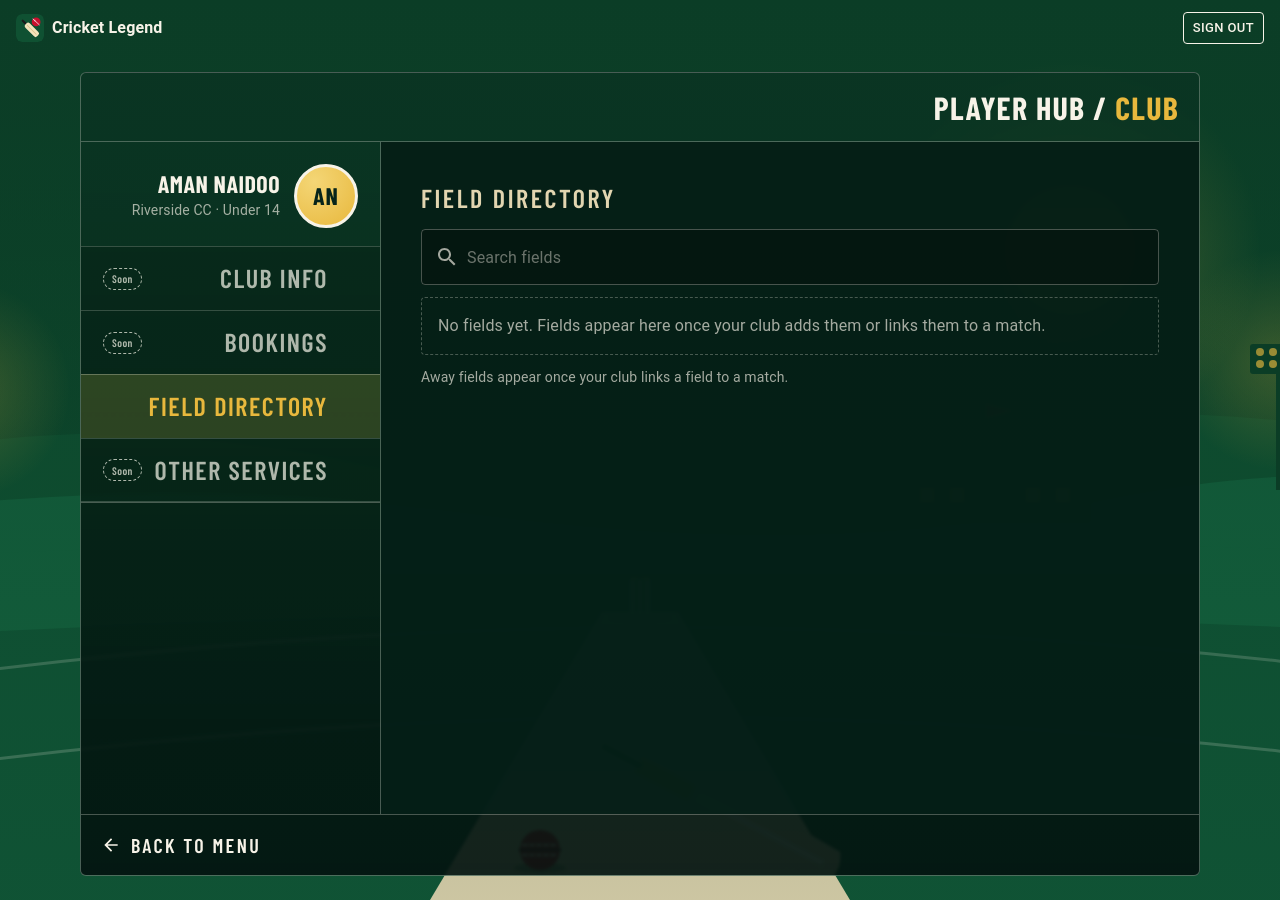
Test: Escape in the Field Directory › clears the search first, then a second Escape runs the footer Back
The width and height of the screenshot is (1280, 900).
Type "oval" into the field labelled "Search fields" at (813, 257), box top-left (467, 229), bottom-right (1159, 285)
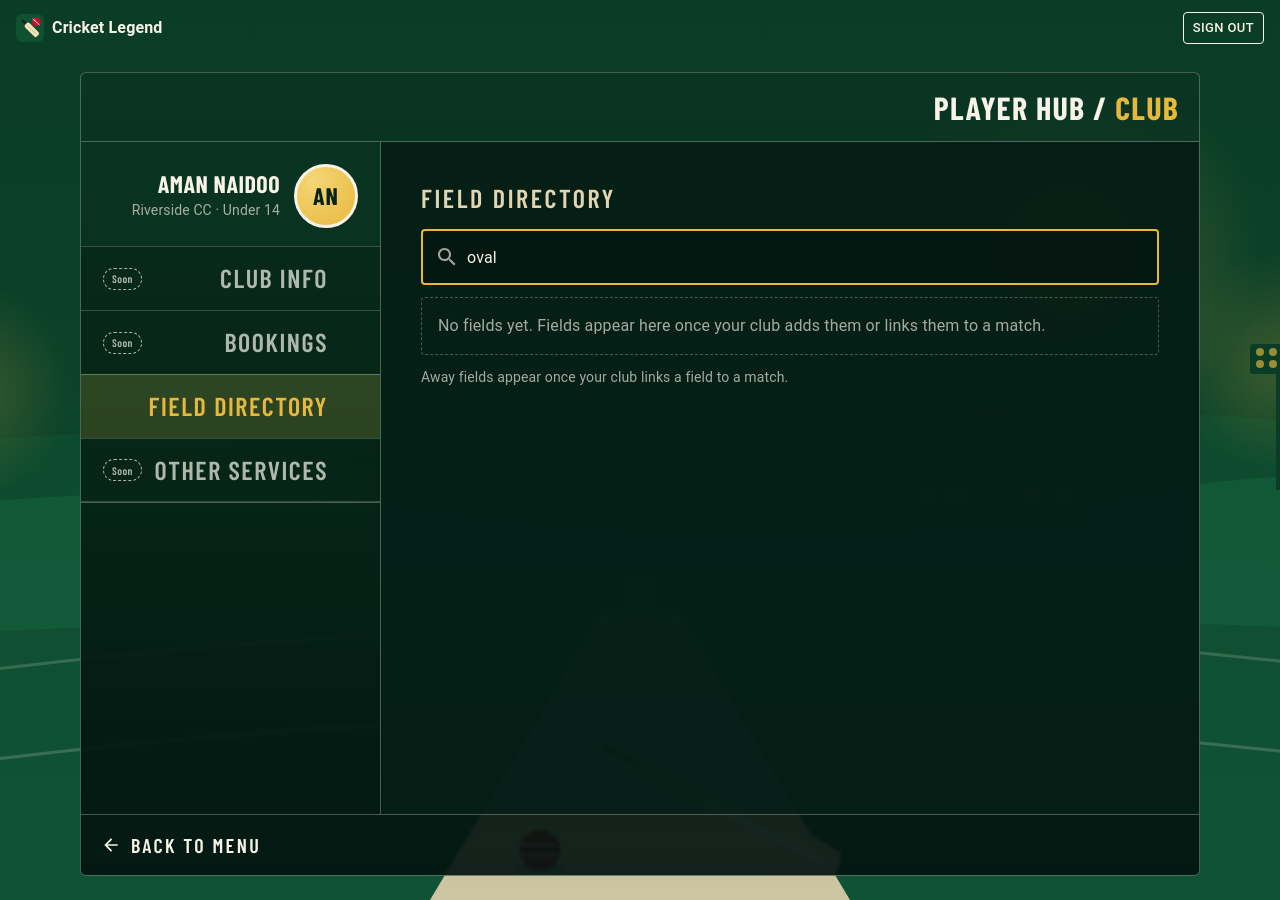
Press Escape
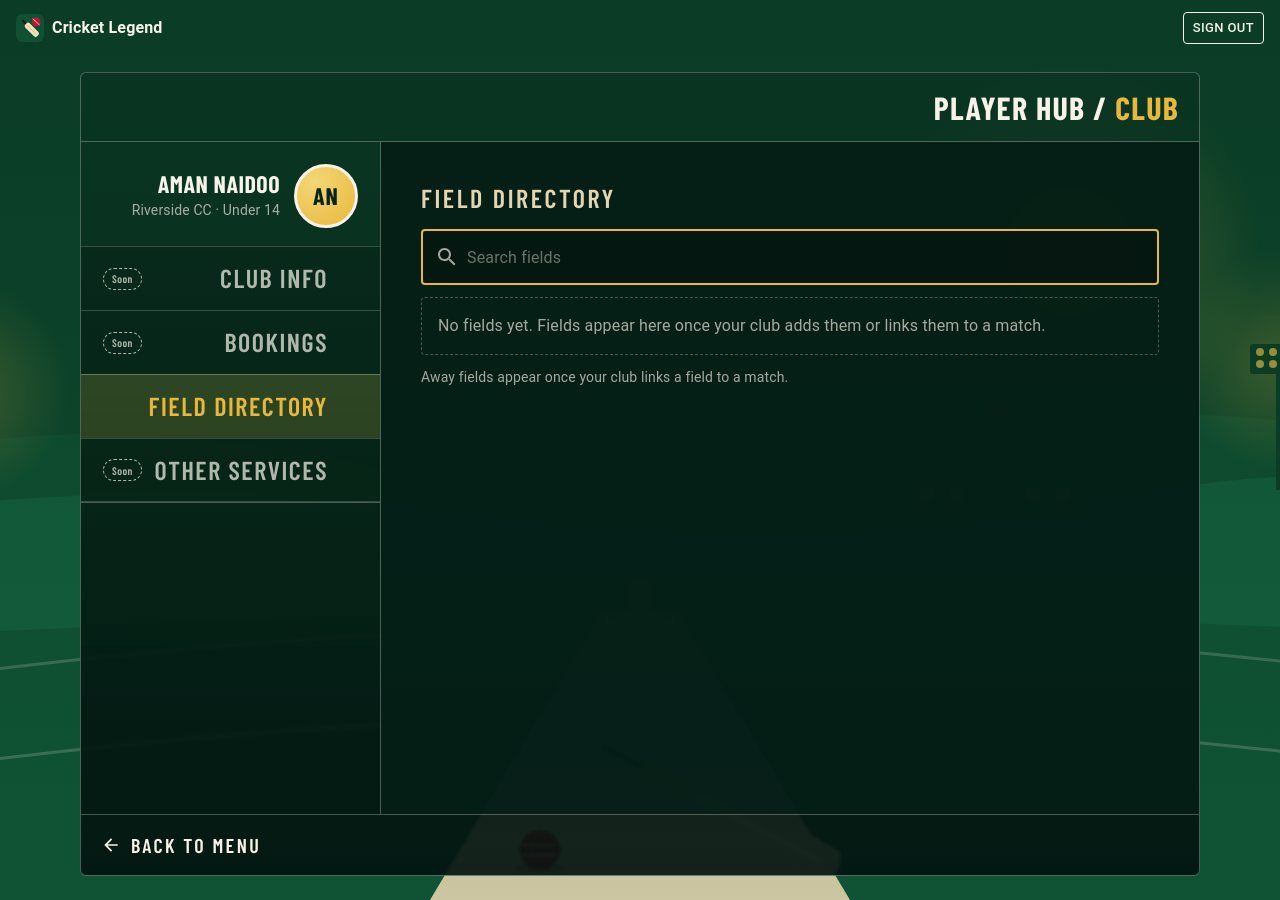
Expected: the heading "Field Directory" is shown, top-left (421, 182), bottom-right (616, 213)
Expected: the field labelled "Search fields" is empty, top-left (467, 229), bottom-right (1159, 285)
Press Escape
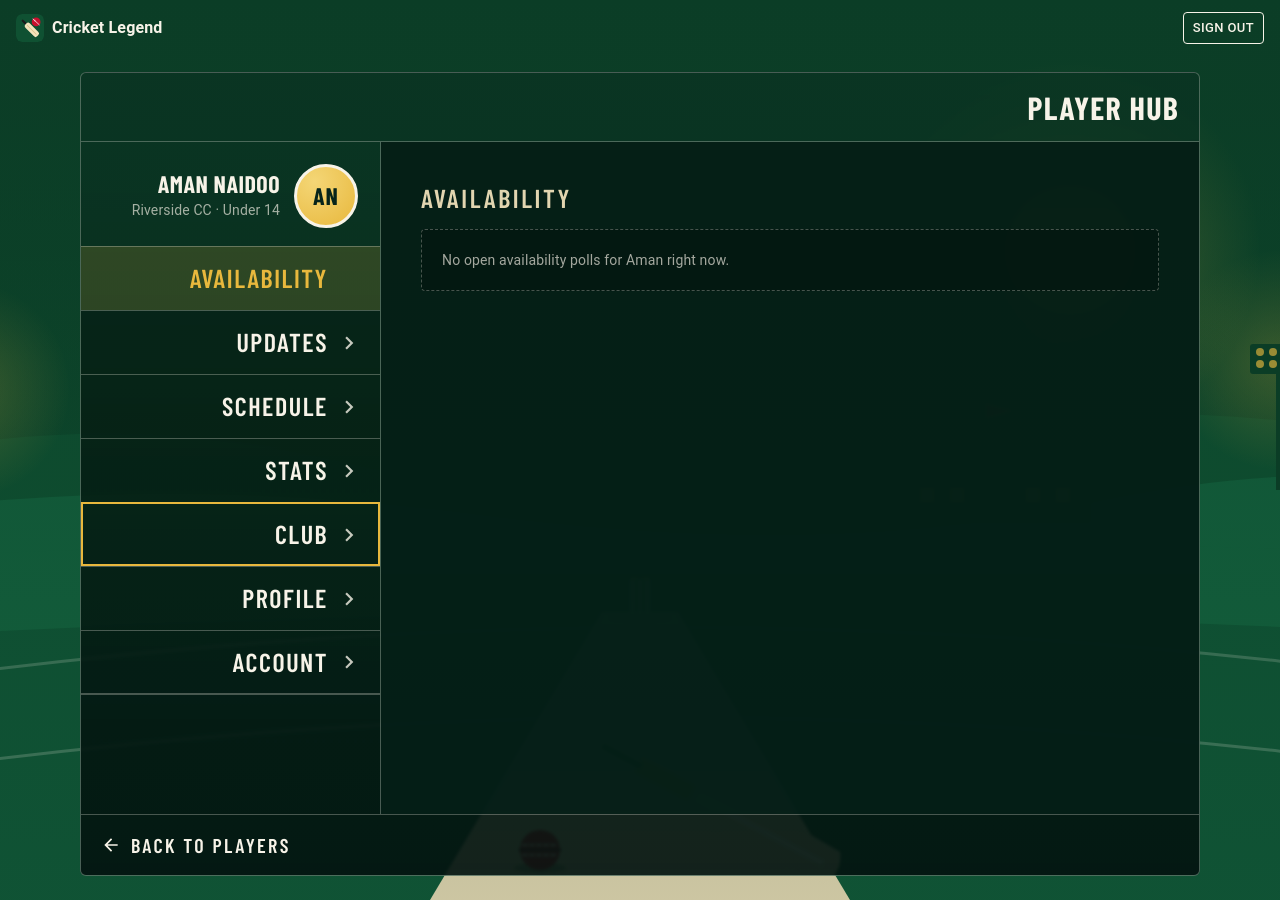
Expected: the button "Field Directory" is gone
